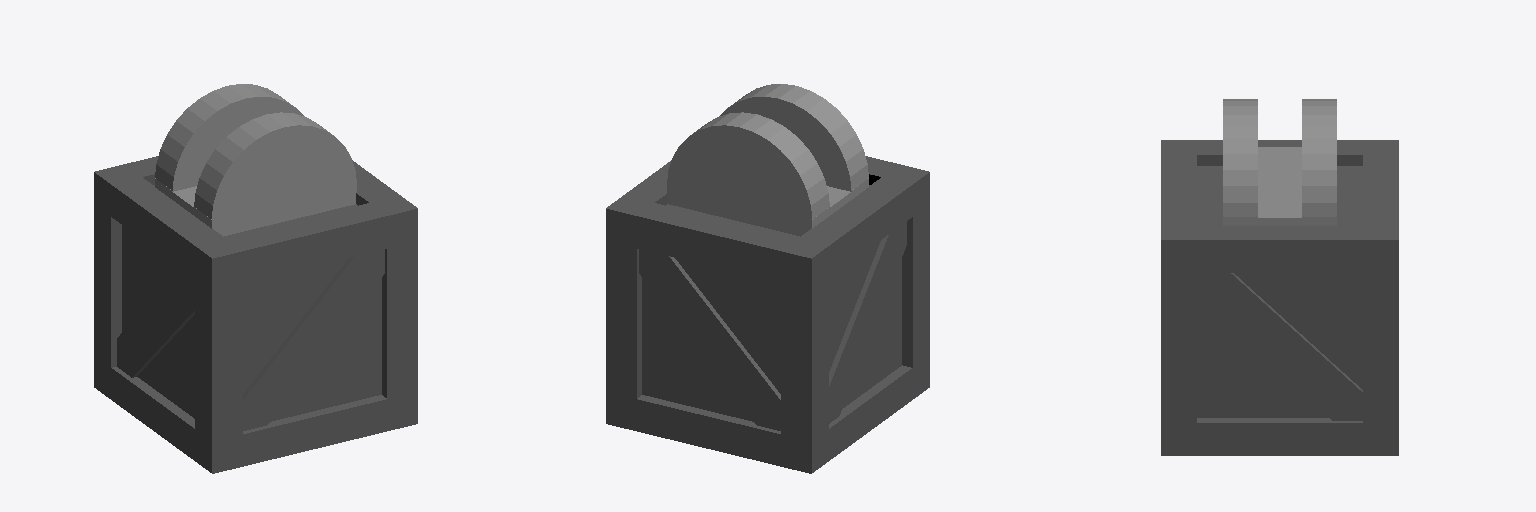
3 views of the same model, side by side, from view 1: azimuth 30°, elevation 25°; view 2: azimuth 150°, elevation 25°; view 3: azimuth 270°, elevation 25° (orthographic).
Visible parts, largest first — view 1: 木箱_立方体.006; view 2: 木箱_立方体.006; view 3: 木箱_立方体.006.
Boxes of the visible parts, <box> form: 木箱_立方体.006: <box>94,84,417,473</box>; 木箱_立方体.006: <box>606,84,929,473</box>; 木箱_立方体.006: <box>1161,99,1398,455</box>.
Size of the model in its own units: 2 by 2.78 by 2.
Materials: 1 (1 with a texture image).